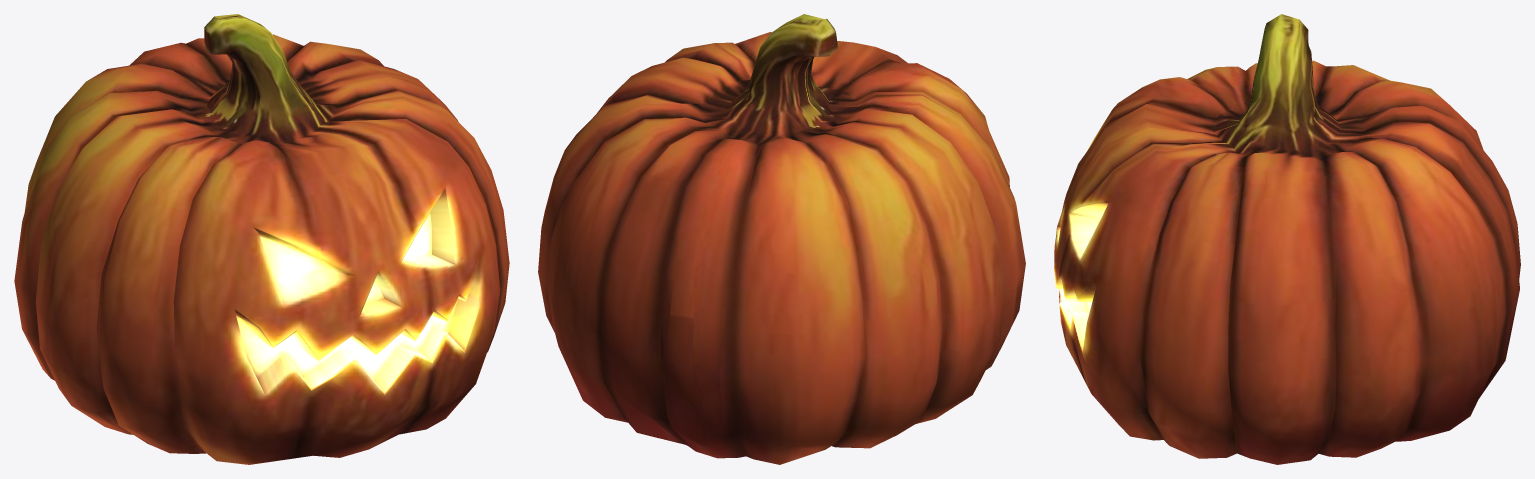
File: halloween_pumpkin.glb
3 renders of one model, left to right at view 1: azimuth 30°, elevation 25°; view 2: azimuth 150°, elevation 25°; view 3: azimuth 270°, elevation 25°, orthographic. The views are drawn at different scales.
Parts seen in each view (by area): view 1: Pumpkin; view 2: Pumpkin; view 3: Pumpkin.
Boxes of the visible parts, <box> form: Pumpkin: <box>14,14,509,464</box>; Pumpkin: <box>538,14,1025,464</box>; Pumpkin: <box>1054,14,1520,464</box>.
Size of the model in its own units: 0.0197 by 0.0173 by 0.0196.
1 material, 1 textured.
